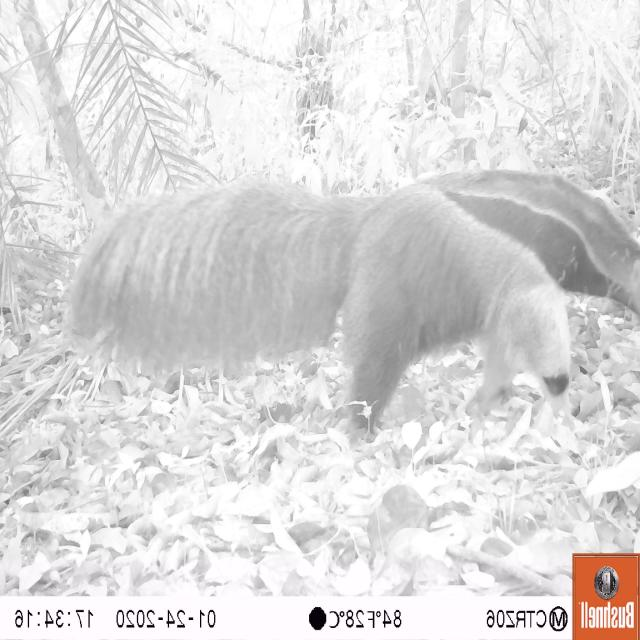Giant Anteater: (67, 165, 640, 448)
